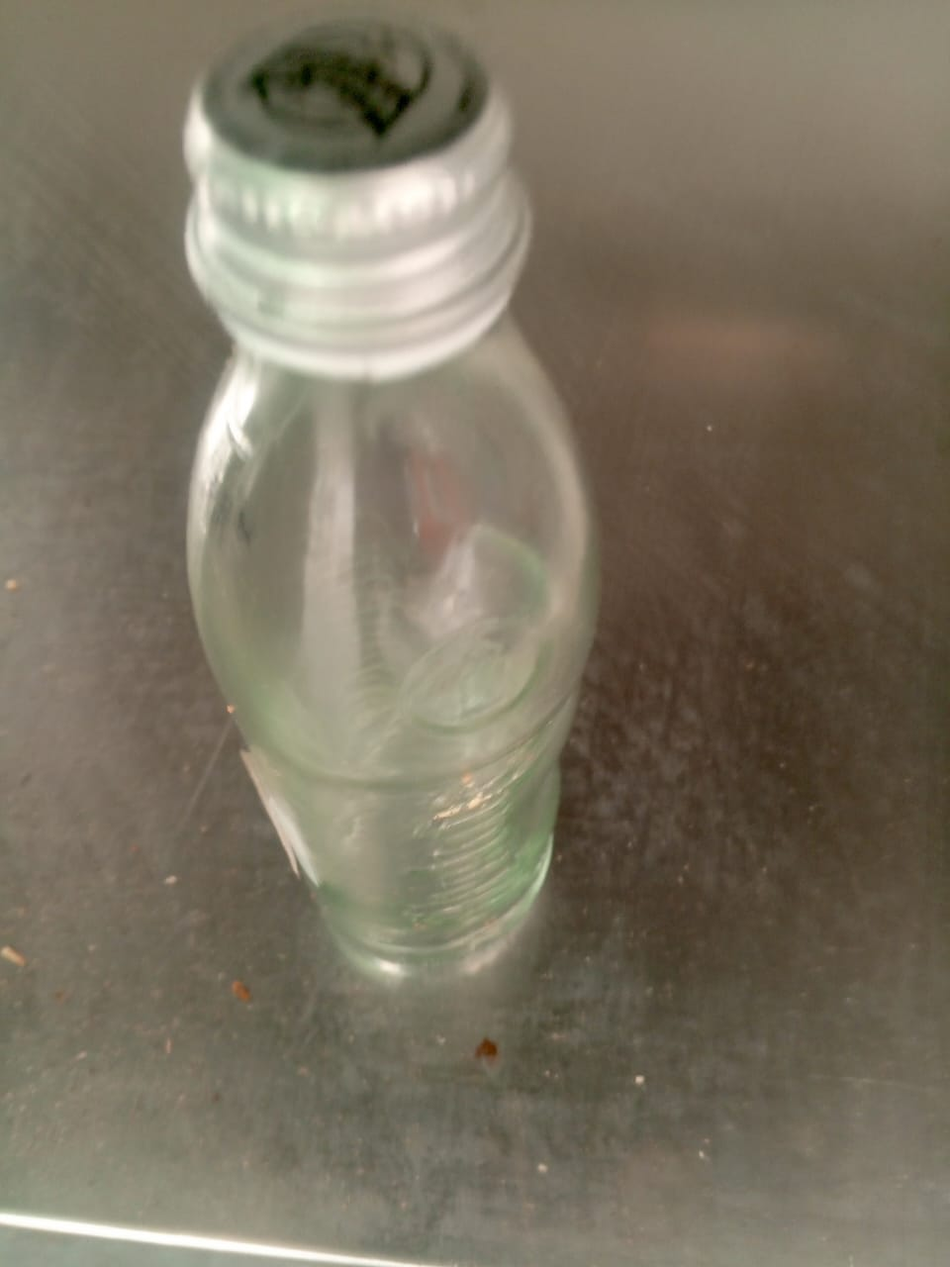Metal: (178, 16, 532, 375)
Vidrio: (185, 382, 602, 961)
